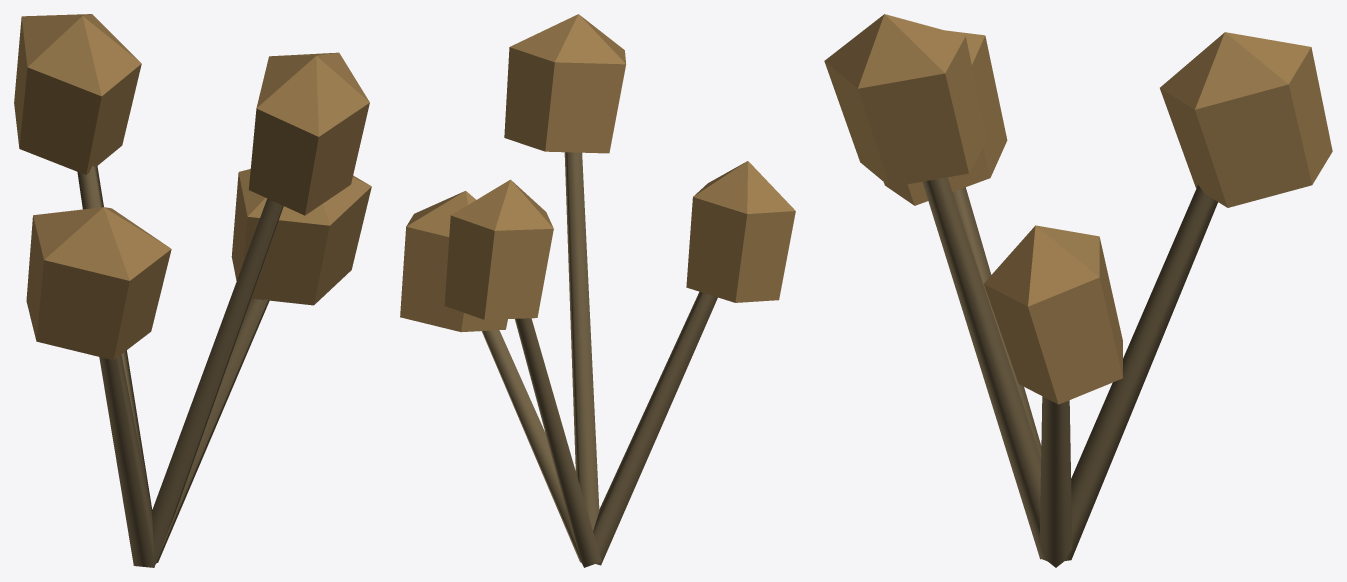
Rendered from plant-seedPods.glb.
3 views of the same model, side by side, from view 1: azimuth 30°, elevation 25°; view 2: azimuth 150°, elevation 25°; view 3: azimuth 270°, elevation 25° (orthographic). The views are drawn at different scales.
Parts seen in each view (by area): view 1: plant-seedPods; view 2: plant-seedPods; view 3: plant-seedPods.
Boxes of the visible parts, x1,y1,x2,y2 form: plant-seedPods: (14,14,371,567); plant-seedPods: (400,14,795,567); plant-seedPods: (824,14,1332,567).
Size of the model in its own units: 0.5818 by 0.796 by 0.6147.
